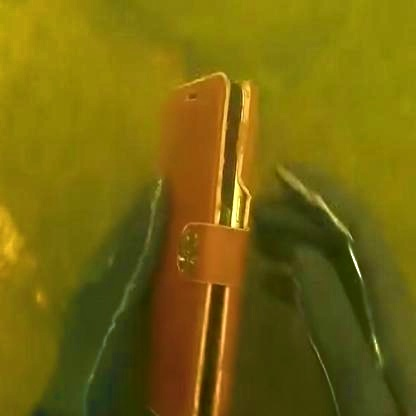electronics: (173, 61, 266, 402)
